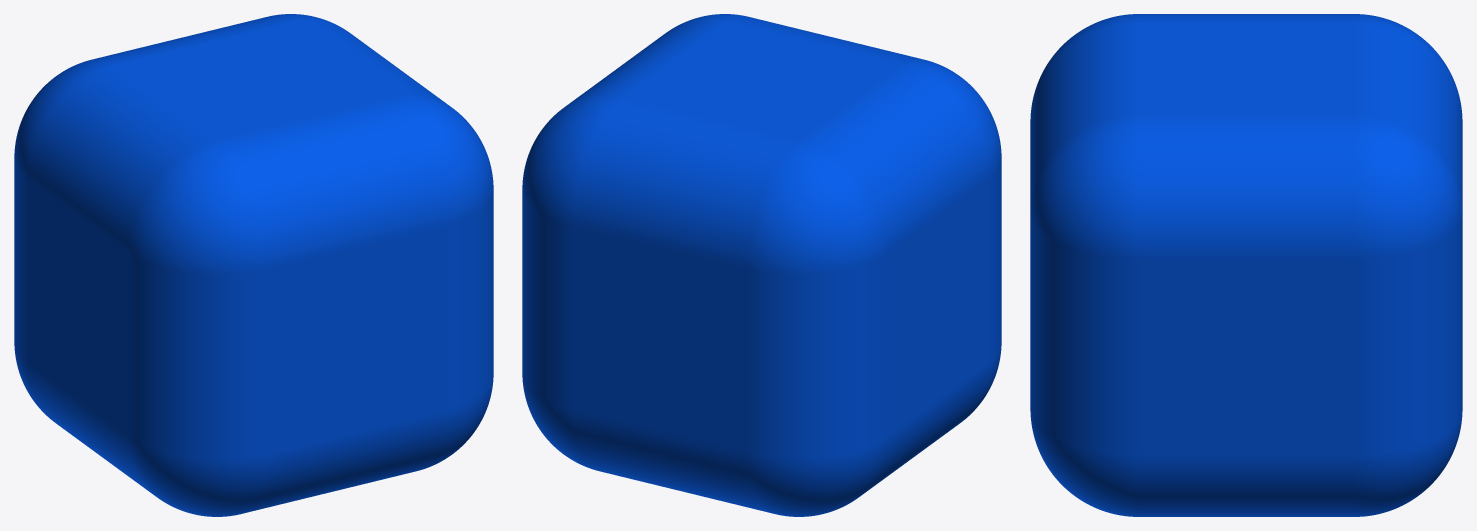
3 views of the same model, side by side, from view 1: azimuth 30°, elevation 25°; view 2: azimuth 150°, elevation 25°; view 3: azimuth 270°, elevation 25° (orthographic). The views are drawn at different scales.
Visible parts, largest first — view 1: Box; view 2: Box; view 3: Box.
Part boxes in pixels (x1=…): Box: x1=14, y1=14, x2=493, y2=516; Box: x1=522, y1=14, x2=1001, y2=516; Box: x1=1030, y1=14, x2=1462, y2=516.
Bounding box in the file's own units: 2 × 2 × 2.
